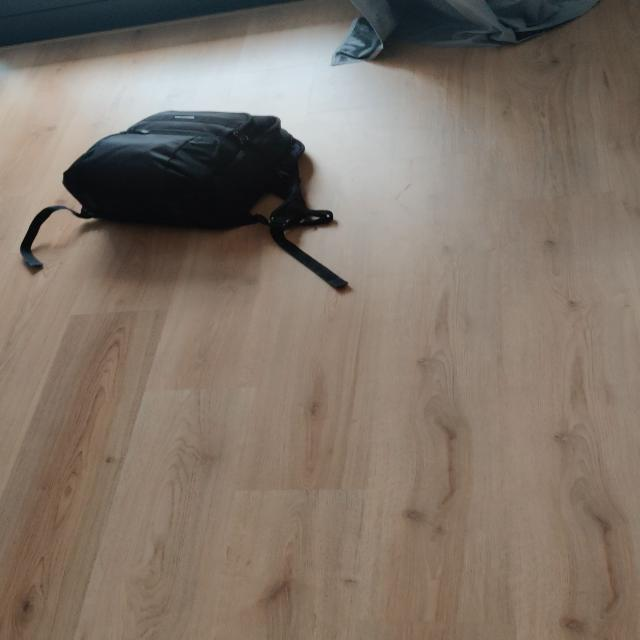backpack: (55, 103, 318, 235)
